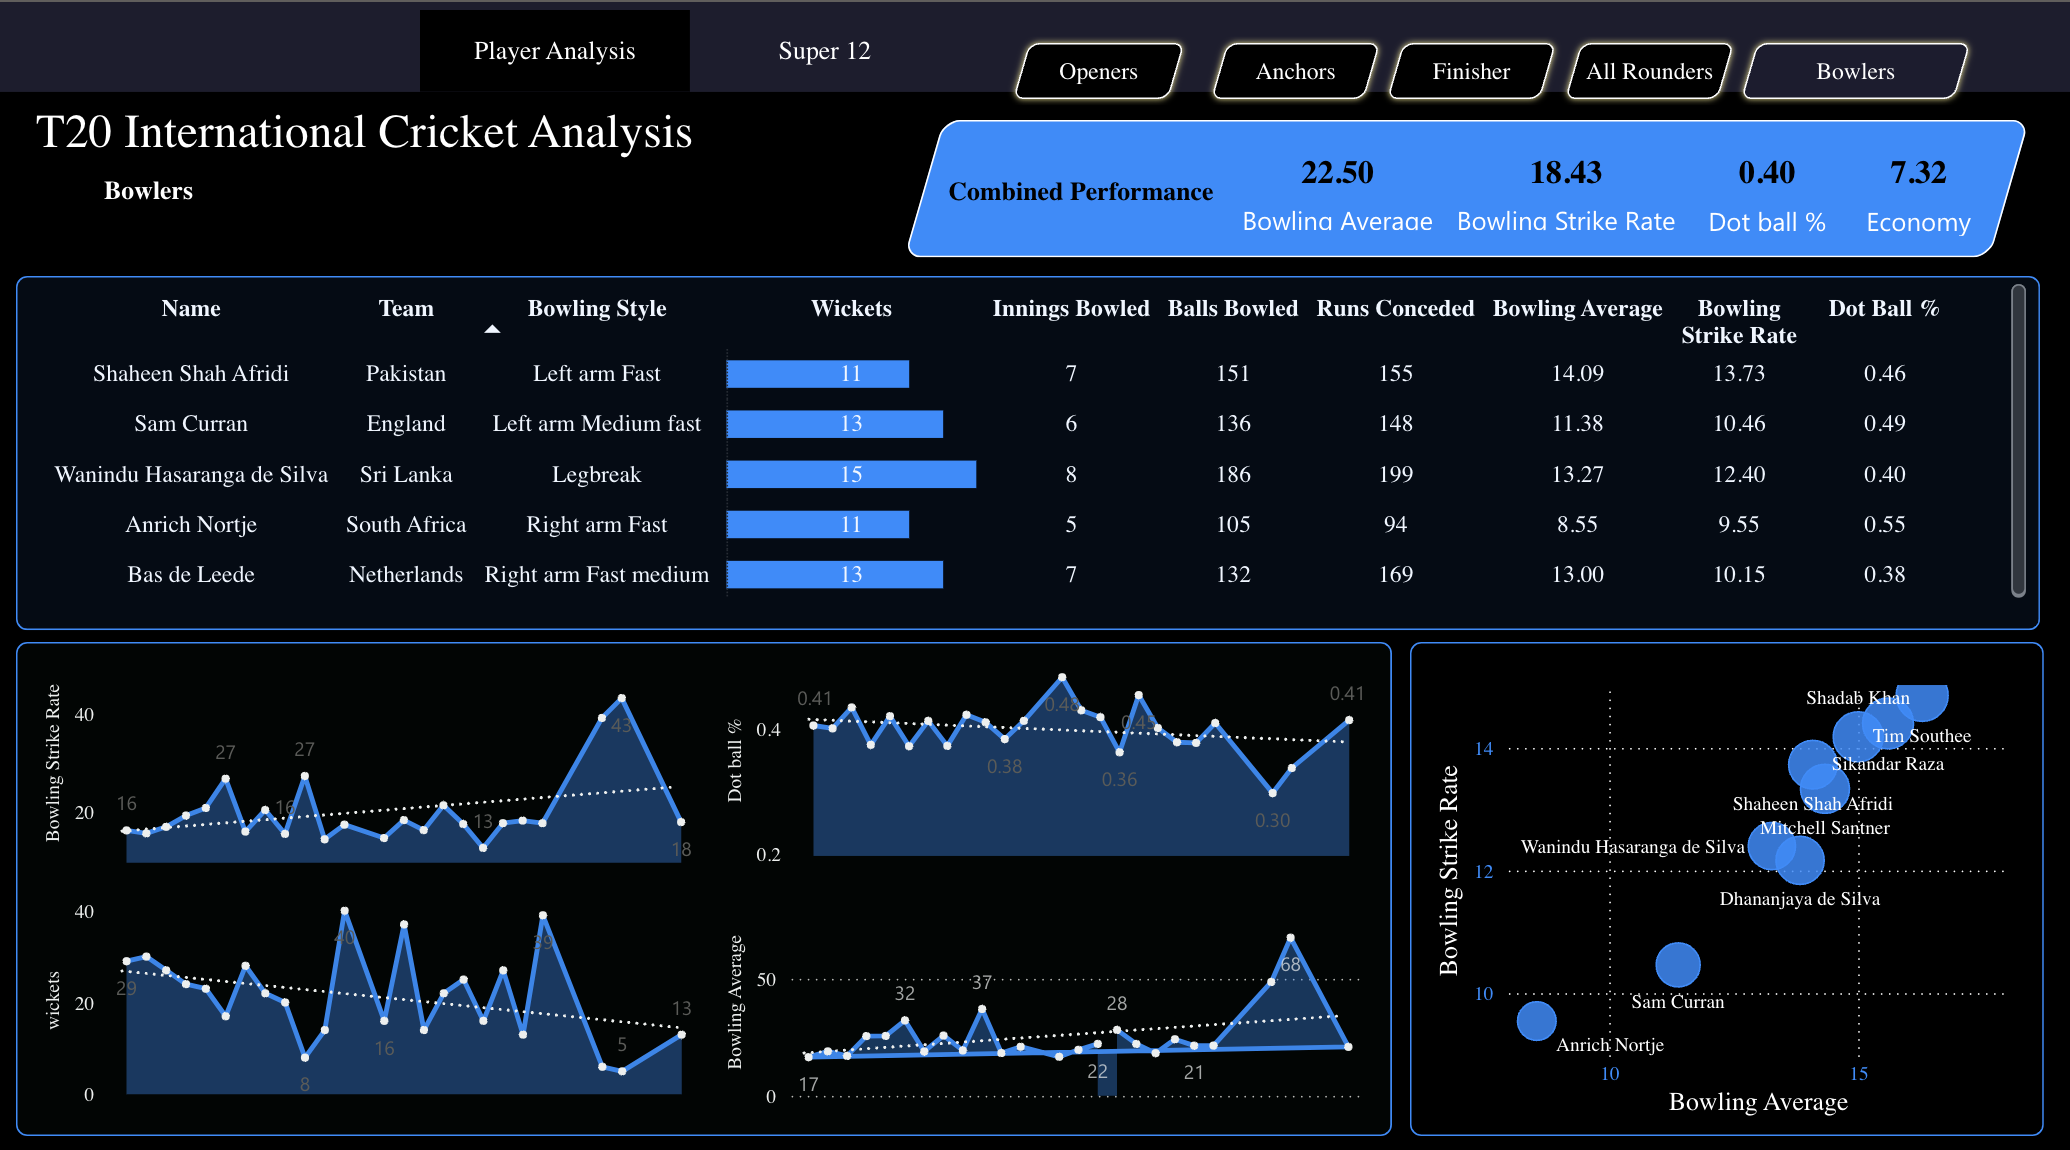

The page's visual inventory and layout, read from the dashboard file:
{"tool":"powerbi","page":{"name":"Bowlers","canvas":[1280,720],"ordinal":4},"visuals":[{"type":"tableEx","fields":{"Values":["dim_players.name","dim_players.team","dim_players.bowlingStyle","Key_Measures.wickets","Key_Measures.Total Innings Bowled","Key_Measures.balls Bowled","Key_Measures.Runs Conceded","Key_Measures.Bowling Average","Key_Measures.Bowling Strike Rate","Key_Measures.Dot ball %"]},"box":[22.4,178.8,1235.3,204.1],"z":0},{"type":"scatterChart","fields":{"Y":["Key_Measures.Bowling Strike Rate"],"X":["Key_Measures.Bowling Average"],"Category":["dim_players.name"],"Size":["Key_Measures.Bowling Average"]},"box":[883.6,418.7,369.4,285],"z":1000},{"type":"areaChart","fields":{"Category":["dim_match_summary.matchDate.Variation.Date Hierarchy.Year","dim_match_summary.matchDate.Variation.Date Hierarchy.Month","dim_match_summary.matchDate.Variation.Date Hierarchy.Day"],"Y":["Key_Measures.Bowling Strike Rate"]},"box":[22.3,406,413.9,141.7],"z":2000},{"type":"areaChart","fields":{"Y":["Key_Measures.Dot ball %"],"Category":["dim_match_summary.matchDate.Variation.Date Hierarchy.Year","dim_match_summary.matchDate.Variation.Date Hierarchy.Month","dim_match_summary.matchDate.Variation.Date Hierarchy.Day"]},"box":[444.1,406.8,405.3,143.1],"z":3000},{"type":"areaChart","fields":{"Category":["dim_match_summary.matchDate.Variation.Date Hierarchy.Year","dim_match_summary.matchDate.Variation.Date Hierarchy.Month","dim_match_summary.matchDate.Variation.Date Hierarchy.Day"],"Y":["Key_Measures.wickets"]},"box":[22.4,555.8,414.2,143.1],"z":4000},{"type":"areaChart","fields":{"Category":["dim_match_summary.matchDate.Variation.Date Hierarchy.Year","dim_match_summary.matchDate.Variation.Date Hierarchy.Month","dim_match_summary.matchDate.Variation.Date Hierarchy.Day"],"Y":["Key_Measures.Bowling Average"]},"box":[443.9,556.4,404.8,142.8],"z":5000},{"type":"shape","box":[0,0,1280,65.5],"z":6000},{"type":"shape","box":[558.8,83.4,695.9,84.9],"z":7000},{"type":"card","fields":{"Values":["Key_Measures.Bowling Average"]},"box":[760,96.9,135.6,59.6],"z":8000},{"type":"card","title":"Consolidated Parameters","fields":{"Values":["Key_Measures.Bowling Strike Rate"]},"box":[895.6,96.9,146,59.6],"z":9000},{"type":"card","title":"Consolidated Parameters","fields":{"Values":["Key_Measures.Dot ball %"]},"box":[1041.6,93.9,102.8,65.6],"z":10000},{"type":"card","title":"Consolidated Parameters","fields":{"Values":["Key_Measures.Economy"]},"box":[1144.4,93.9,84.9,65.6],"z":11000},{"type":"shape","box":[618.4,26.8,122.2,50.7],"z":12000},{"type":"shape","box":[740.6,26.8,120.7,50.7],"z":13000},{"type":"shape","box":[849.4,26.8,120.7,50.7],"z":14000},{"type":"shape","box":[959.6,26.8,120.7,50.7],"z":15000},{"type":"shape","box":[1068.4,26.8,158,50.7],"z":16000},{"type":"shape","box":[10.4,178.8,1251.7,219],"z":17000},{"type":"shape","box":[10.4,405.3,850.8,305.5],"z":18000},{"type":"shape","box":[871.7,405.3,391.9,305.5],"z":19000},{"type":"shape","box":[578.2,111.8,181.8,31.3],"z":21001},{"type":"shape","title":"T20 International Cricket Analysis","box":[22.4,73,554.3,35.8],"z":21002},{"type":"shape","box":[64.4,101.9,254.8,50.7],"z":21003},{"type":"shape","box":[259.3,14.9,166.9,50.7],"z":21004},{"type":"shape","box":[426.2,14.9,166.9,50.7],"z":21005}]}

Visuals, with their boxes in screenshot pixels (x1, y1, x2, y2), scaled from the page's 1280x720 canvas onto the 2070x1150 screenshot:
tableEx - dim_players.name x dim_players.team: l=36, t=286, r=2034, b=612
scatterChart - Key_Measures.Bowling Strike Rate x Key_Measures.Bowling Average: l=1429, t=669, r=2026, b=1124
areaChart - dim_match_summary.matchDate.Variation.Date Hierarchy.Year x dim_match_summary.matchDate.Variation.Date Hierarchy.Month: l=36, t=648, r=705, b=875
areaChart - Key_Measures.Dot ball % x dim_match_summary.matchDate.Variation.Date Hierarchy.Year: l=718, t=650, r=1374, b=878
areaChart - dim_match_summary.matchDate.Variation.Date Hierarchy.Year x dim_match_summary.matchDate.Variation.Date Hierarchy.Month: l=36, t=888, r=706, b=1116
areaChart - dim_match_summary.matchDate.Variation.Date Hierarchy.Year x dim_match_summary.matchDate.Variation.Date Hierarchy.Month: l=718, t=889, r=1373, b=1117
shape: l=0, t=0, r=2069, b=105
shape: l=904, t=133, r=2029, b=269
card - Key_Measures.Bowling Average: l=1229, t=155, r=1448, b=250
"Consolidated Parameters" card: l=1448, t=155, r=1684, b=250
"Consolidated Parameters" card: l=1684, t=150, r=1851, b=255
"Consolidated Parameters" card: l=1851, t=150, r=1988, b=255
shape: l=1000, t=43, r=1198, b=124
shape: l=1198, t=43, r=1393, b=124
shape: l=1374, t=43, r=1569, b=124
shape: l=1552, t=43, r=1747, b=124
shape: l=1728, t=43, r=1983, b=124
shape: l=17, t=286, r=2041, b=635
shape: l=17, t=647, r=1393, b=1135
shape: l=1410, t=647, r=2043, b=1135
shape: l=935, t=179, r=1229, b=229
"T20 International Cricket Analysis" shape: l=36, t=117, r=933, b=174
shape: l=104, t=163, r=516, b=244
shape: l=419, t=24, r=689, b=105
shape: l=689, t=24, r=959, b=105
